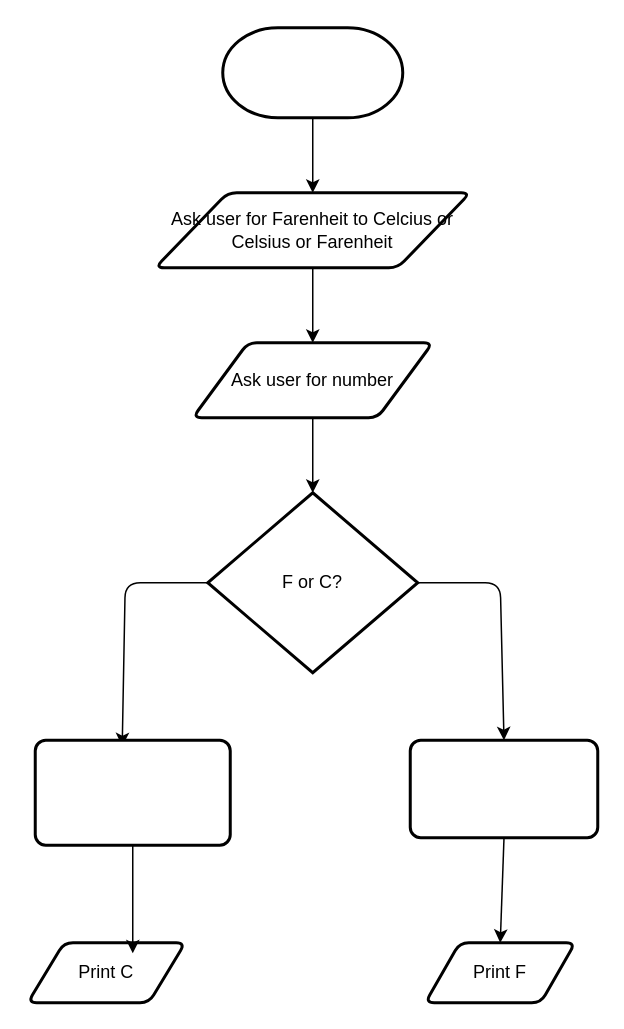
This 624x1029 diagram has some shape labels left out. Each missing label, with the centre of its shape:
Convert C to F: [503,788]
Convert F to C: [132,792]
START: [312,72]
